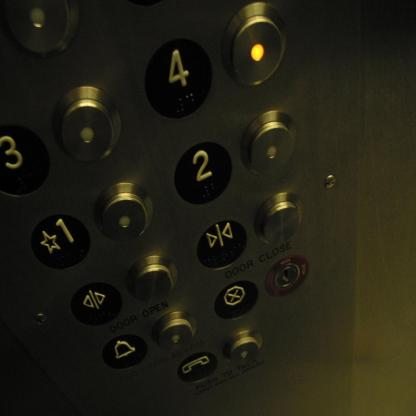2: (174, 141, 233, 203)
3: (0, 122, 50, 197)
4: (142, 36, 213, 120)
alarm: (101, 333, 148, 369)
call: (177, 352, 218, 383)
close: (197, 218, 248, 270)
empty: (222, 0, 288, 87), (50, 84, 122, 162), (0, 1, 80, 62), (238, 110, 296, 179), (94, 181, 155, 244), (125, 252, 178, 305), (254, 190, 304, 245), (150, 309, 197, 353), (223, 328, 263, 366)
keyhole: (264, 255, 310, 298)
open: (70, 282, 123, 326)
s1: (30, 213, 92, 269)
stop: (214, 279, 260, 319)
